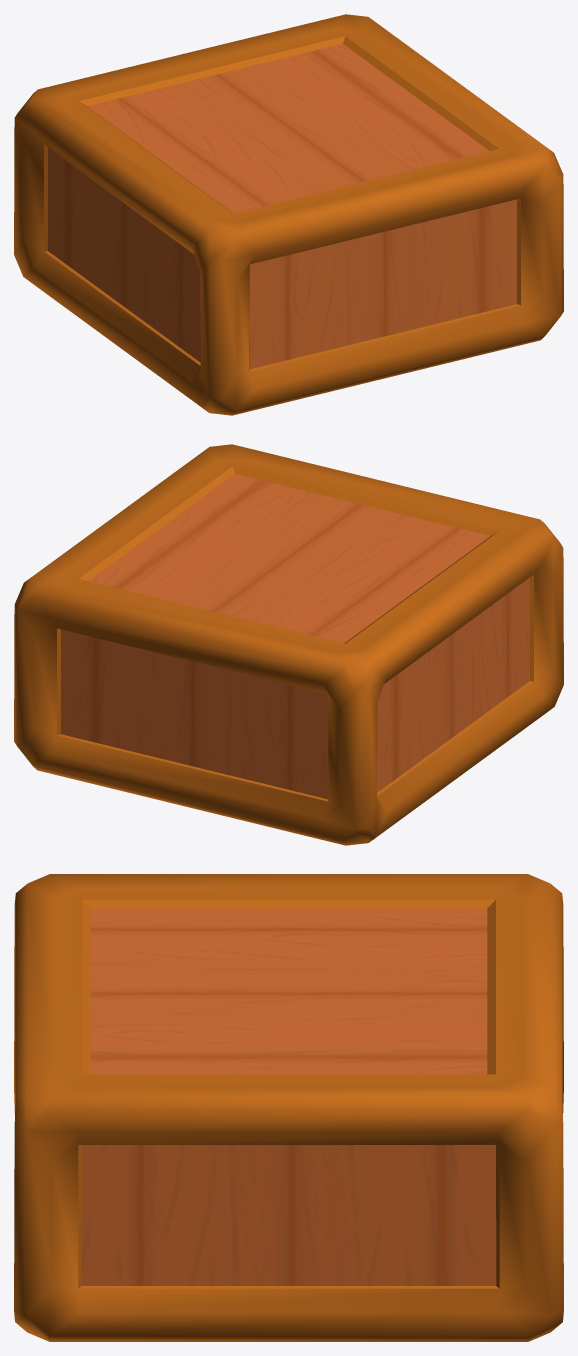
The model's file is crate.fbx.
3 views of the same model, one above another, from view 1: azimuth 30°, elevation 25°; view 2: azimuth 150°, elevation 25°; view 3: azimuth 270°, elevation 25° (orthographic). The views are drawn at different scales.
Visible parts, largest first — view 1: crateouter, crateinner; view 2: crateouter, crateinner; view 3: crateouter, crateinner.
Boxes of the visible parts, x1,y1,x2,y2 form: crateouter: [14, 14, 563, 415]; crateinner: [48, 44, 516, 369]; crateouter: [14, 444, 563, 845]; crateinner: [61, 474, 529, 799]; crateouter: [14, 874, 563, 1341]; crateinner: [81, 908, 496, 1285].
Size of the model in its own units: 47.49 by 23.51 by 47.49.
